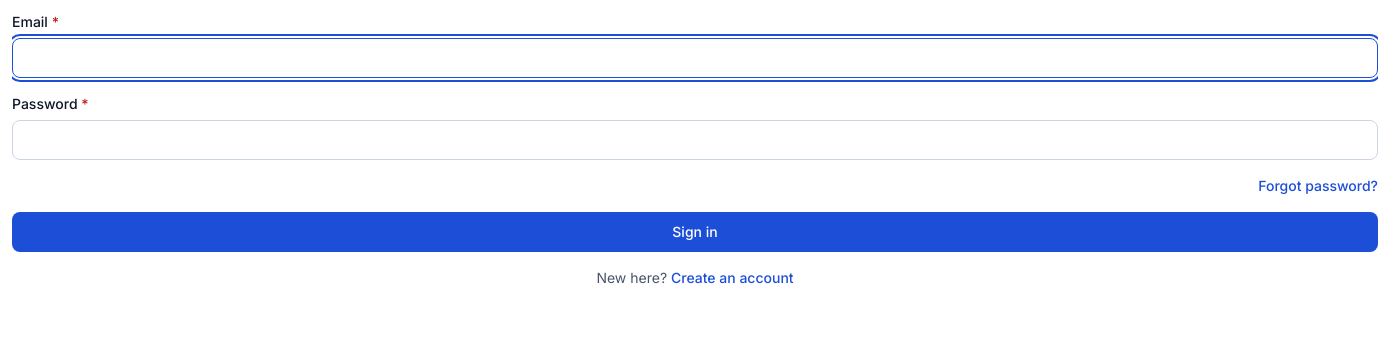
LoginForm › shows the API error for bad credentials
This screenshot has width=1390, height=363.
In the field labelled "Email *": (695, 58) x1=12 y1=38 x2=1378 y2=78, type "a@b.co"
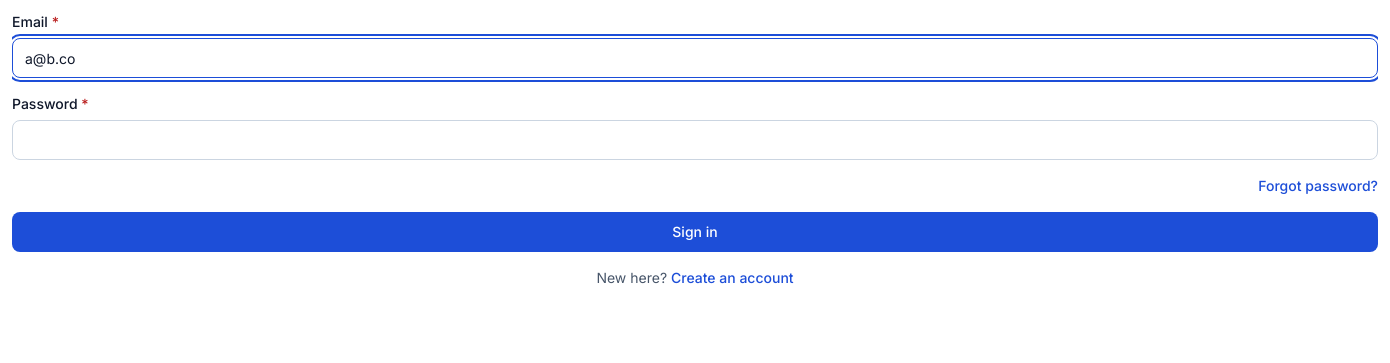
In the password field labelled "Password *": (695, 140) x1=12 y1=120 x2=1378 y2=160, type "wrong"
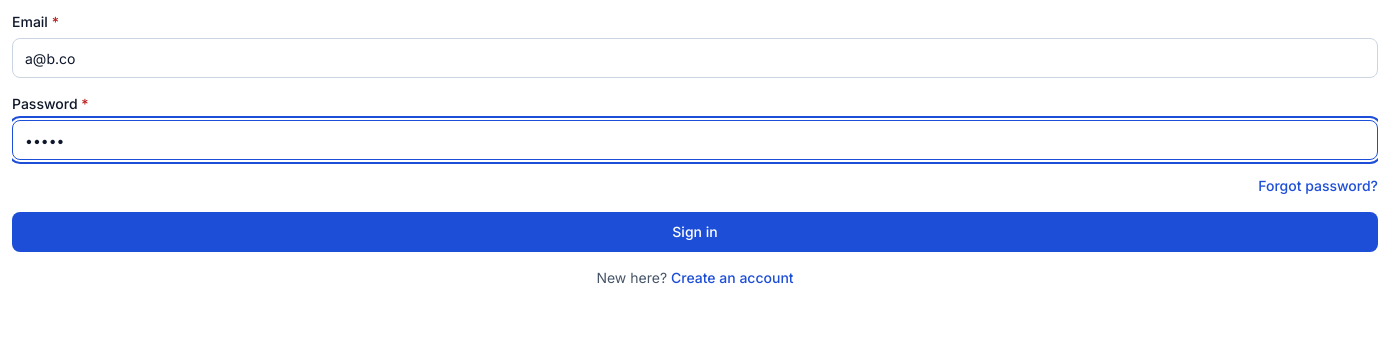
Click the button "Sign in": (695, 232) x1=12 y1=212 x2=1378 y2=252
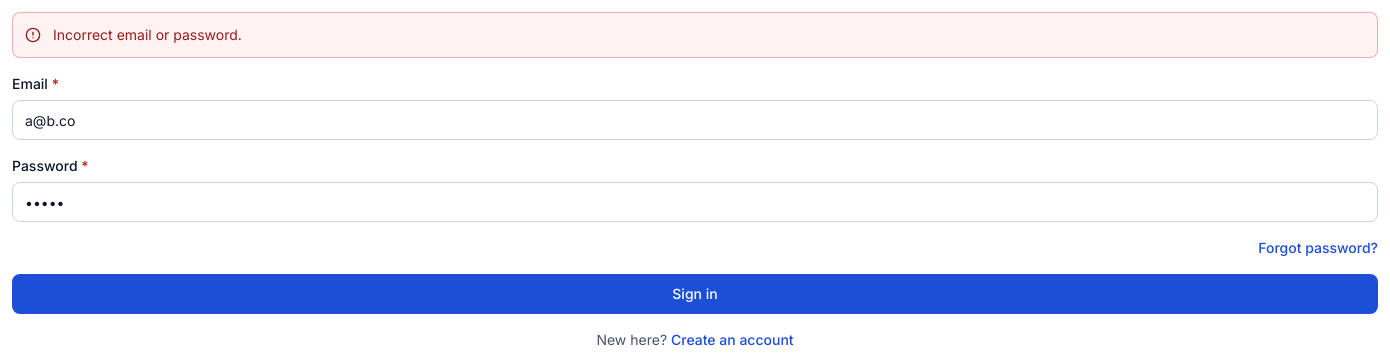
Check: the message shows "Incorrect email or password", box x1=53 y1=26 x2=242 y2=43
